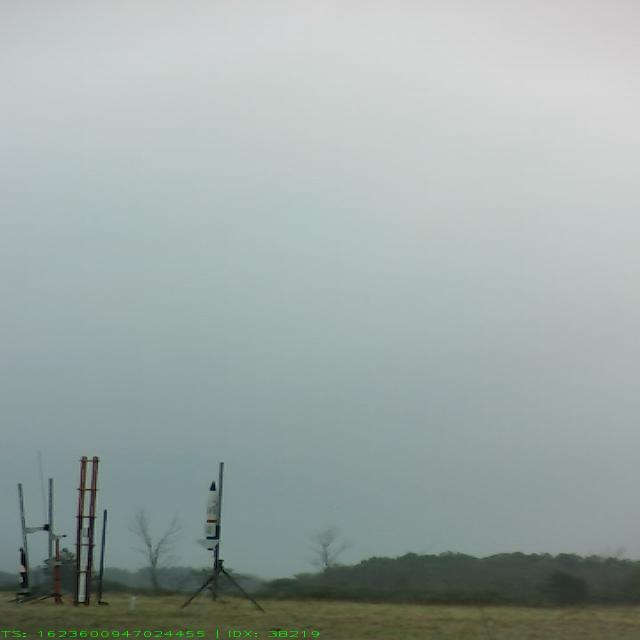Rocket: (194, 479, 224, 552), (13, 547, 31, 589)
